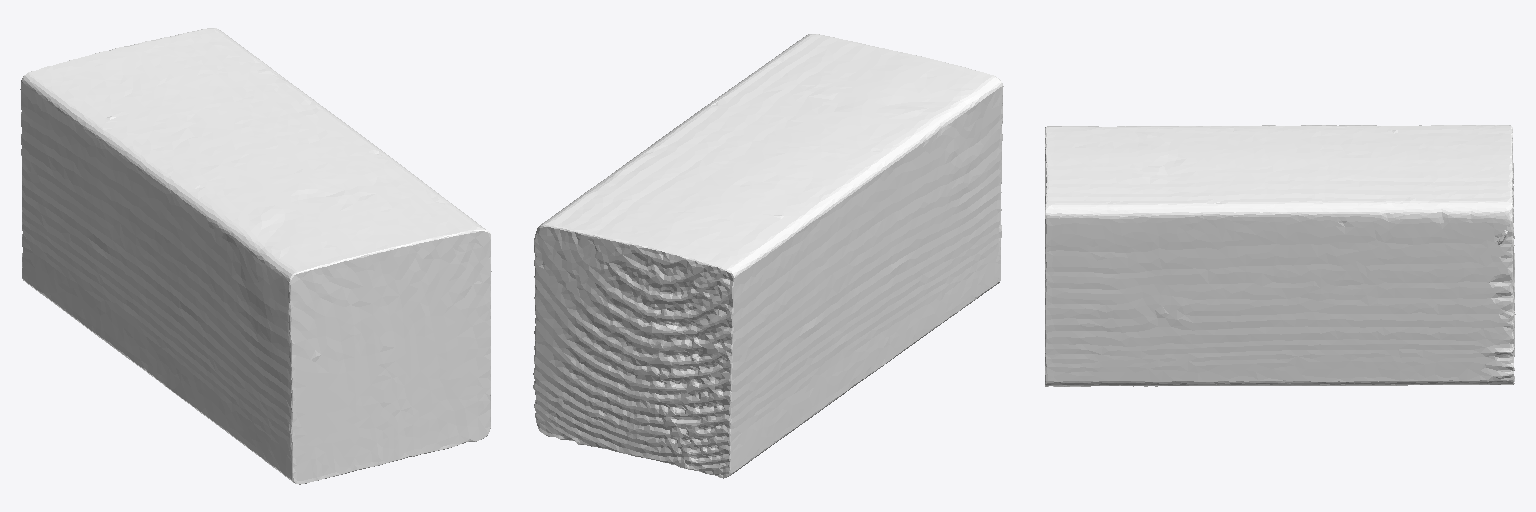
robot.urdf — cracker_box:
<robot name="cracker_box">
	<link name="base_link">
		<visual>
			<origin xyz="0.01420505447388014 -0.10220486833098277 -0.01485355781018036" rpy="0.0 1.57079632679 1.57079632679" />
			<geometry>
				<mesh filename="cracker_box/textured.obj" scale="1 1 1" />
			</geometry>
			<material name="texture">
				<color rgba="1.0 1.0 1.0 1.0" />
			</material>
		</visual>
		<collision>
			<origin xyz="0.01420505447388014 -0.10220486833098277 -0.01485355781018036" rpy="0.0 1.57079632679 1.57079632679" />
			<geometry>
				<mesh filename="cracker_box/textured_vhacd.obj" scale="1 1 1" />
			</geometry>
		</collision>
		<inertial>
			<mass value="0.411" />
			<inertia ixx="1e-3" ixy="0.0" ixz="0.0" iyy="1e-3" iyz="0.0" izz="1e-3" />
		</inertial>
	</link>
</robot>

--- Facts derived from the render (not from the file) ---
The picture shows the robot from 3 angles, left to right: view 1: azimuth 30°, elevation 25°; view 2: azimuth 150°, elevation 25°; view 3: azimuth 270°, elevation 25°; orthographic projection.
Model cracker_box with 1 links and 0 joints (none), rooted at base_link, posed all joints at 0.
Visible links, largest first — view 1: base_link; view 2: base_link; view 3: base_link.
Boxes of the visible links, x1,y1,x2,y2 form: base_link: (20,28,491,484); base_link: (533,34,1003,478); base_link: (1045,125,1515,386).
Size in the robot's own frame: 0.0899 by 0.206 by 0.0906 metres.
1 mesh visuals loaded from 1 distinct referenced files (1 OBJ).
